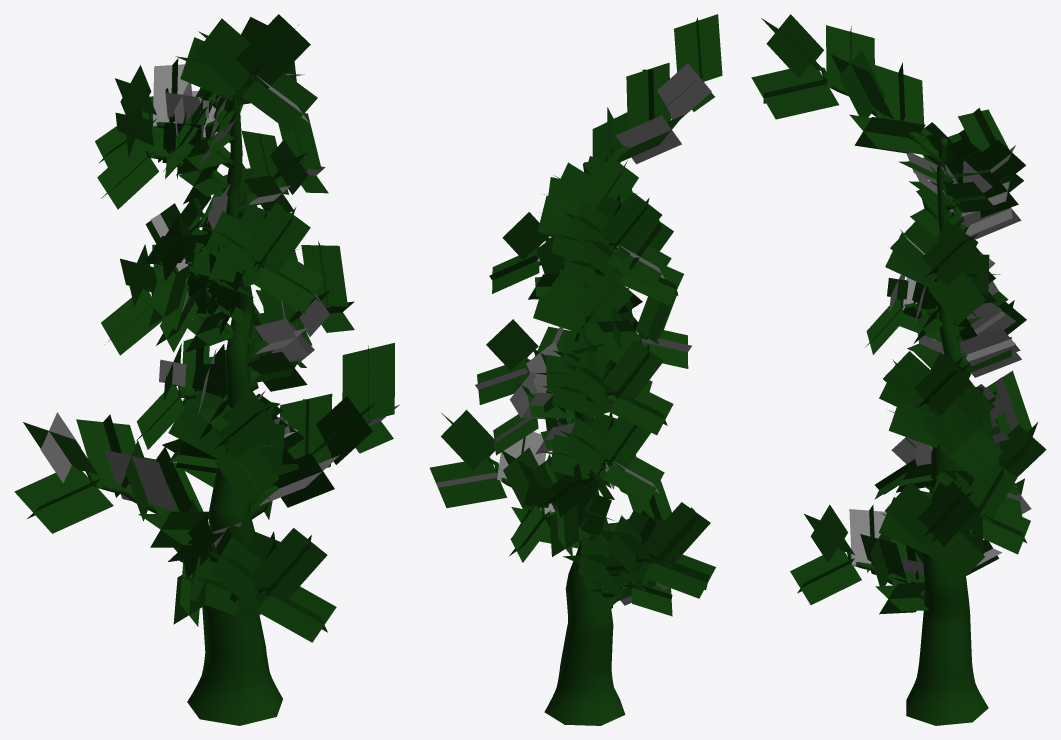
Rendered from Tree B11.obj.
3 renders of one model, left to right at view 1: azimuth 30°, elevation 25°; view 2: azimuth 150°, elevation 25°; view 3: azimuth 270°, elevation 25°, orthographic. The views are drawn at different scales.
Parts seen in each view (by area): view 1: TreeBB2 Trees; view 2: TreeBB2 Trees; view 3: TreeBB2 Trees.
Part boxes in pixels (box(x1,y1,x2,y2)): TreeBB2 Trees: box(14, 14, 399, 725); TreeBB2 Trees: box(429, 14, 722, 725); TreeBB2 Trees: box(751, 14, 1046, 725).
Bounding box in the file's own units: 2.81 × 5.73 × 2.27.
